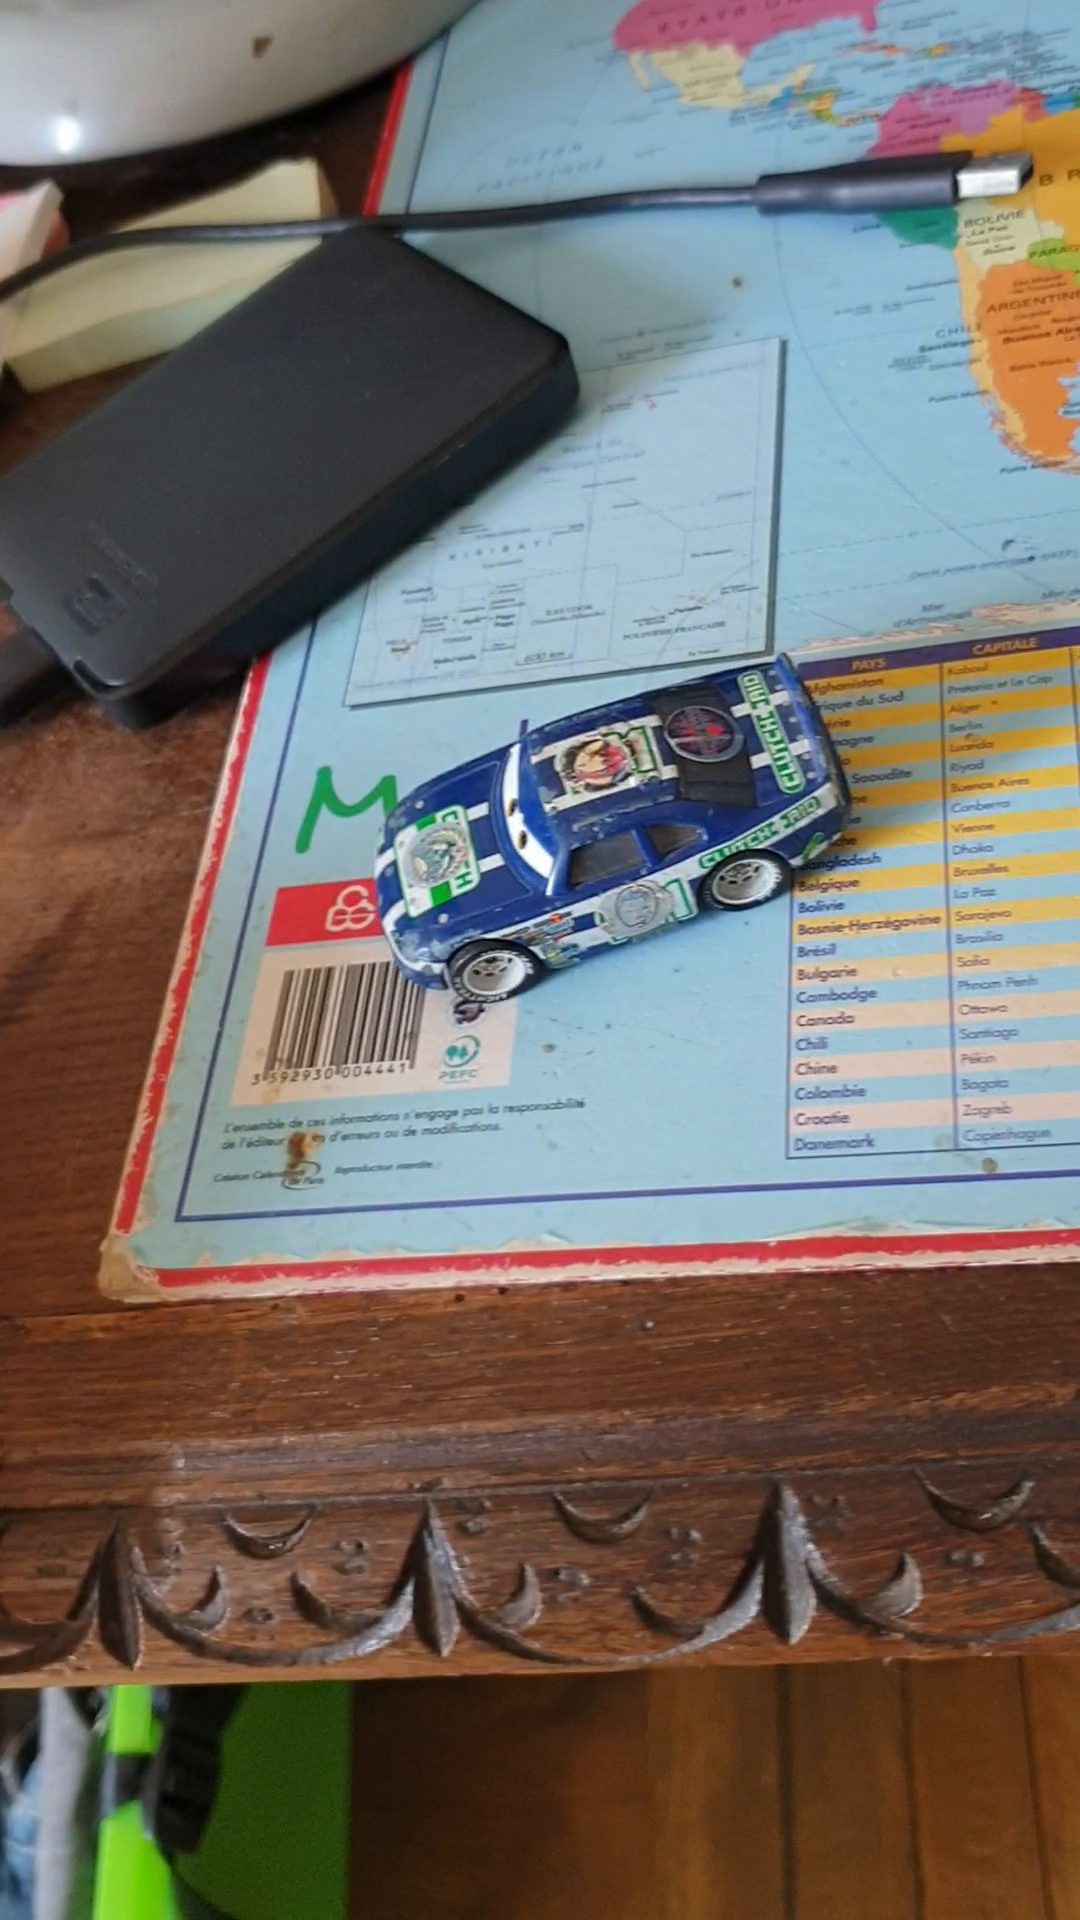cars: (372, 647, 853, 1009)
